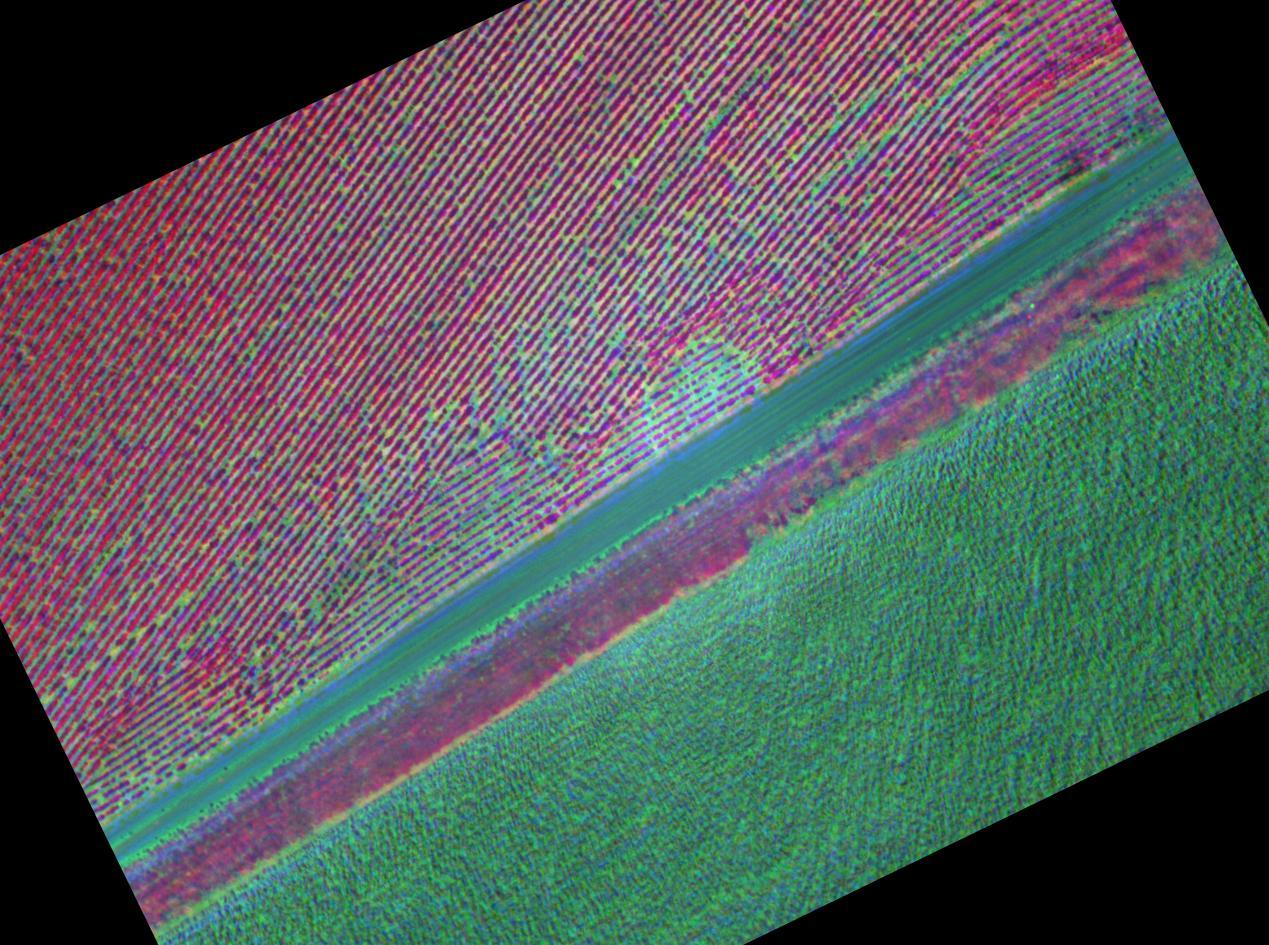dc: (726, 347, 732, 353), (338, 225, 344, 230), (683, 369, 688, 373), (904, 67, 909, 71), (611, 76, 616, 80), (978, 8, 982, 12), (741, 354, 745, 358), (633, 160, 637, 163), (687, 96, 691, 99)
